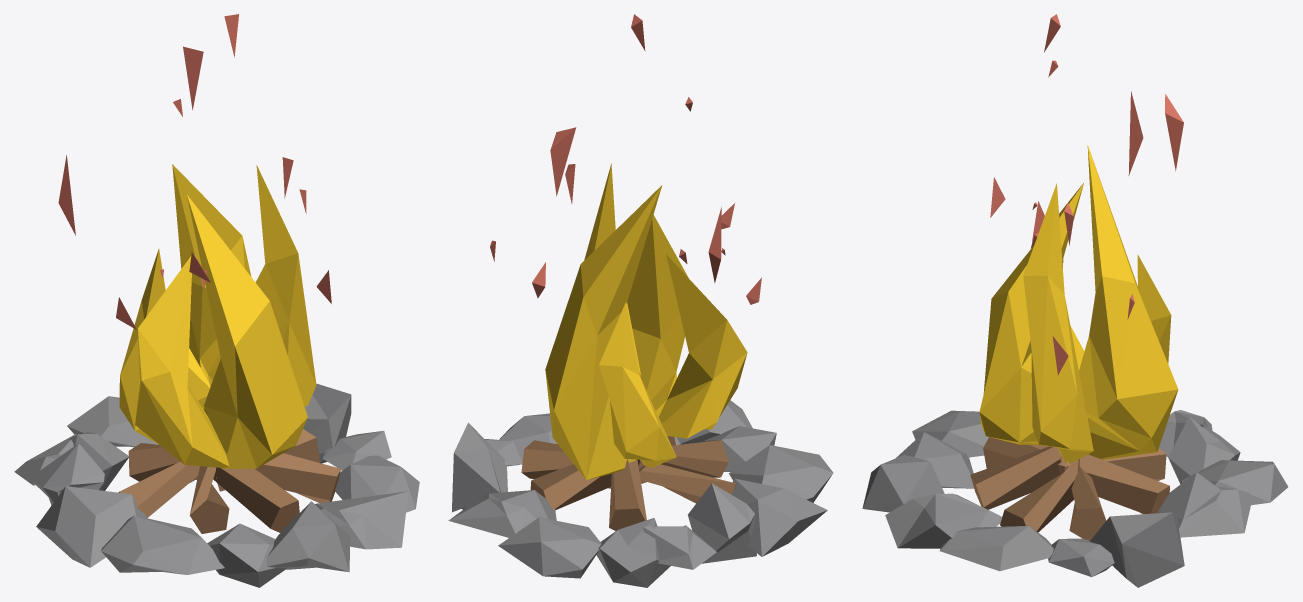
File: Fireplace.glb
3 views of the same model, side by side, from view 1: azimuth 30°, elevation 25°; view 2: azimuth 150°, elevation 25°; view 3: azimuth 270°, elevation 25° (orthographic). The views are drawn at different scales.
Visible parts, largest first — view 1: Fireplace_01; view 2: Fireplace_01; view 3: Fireplace_01.
Boxes of the visible parts, box(x1,y1,x2,y2) form: Fireplace_01: box(14, 14, 419, 587); Fireplace_01: box(448, 14, 833, 587); Fireplace_01: box(862, 14, 1288, 587).
Size of what is drawn, in the model's own units: 1.58 by 2.31 by 1.72.
1 material, 1 textured.
